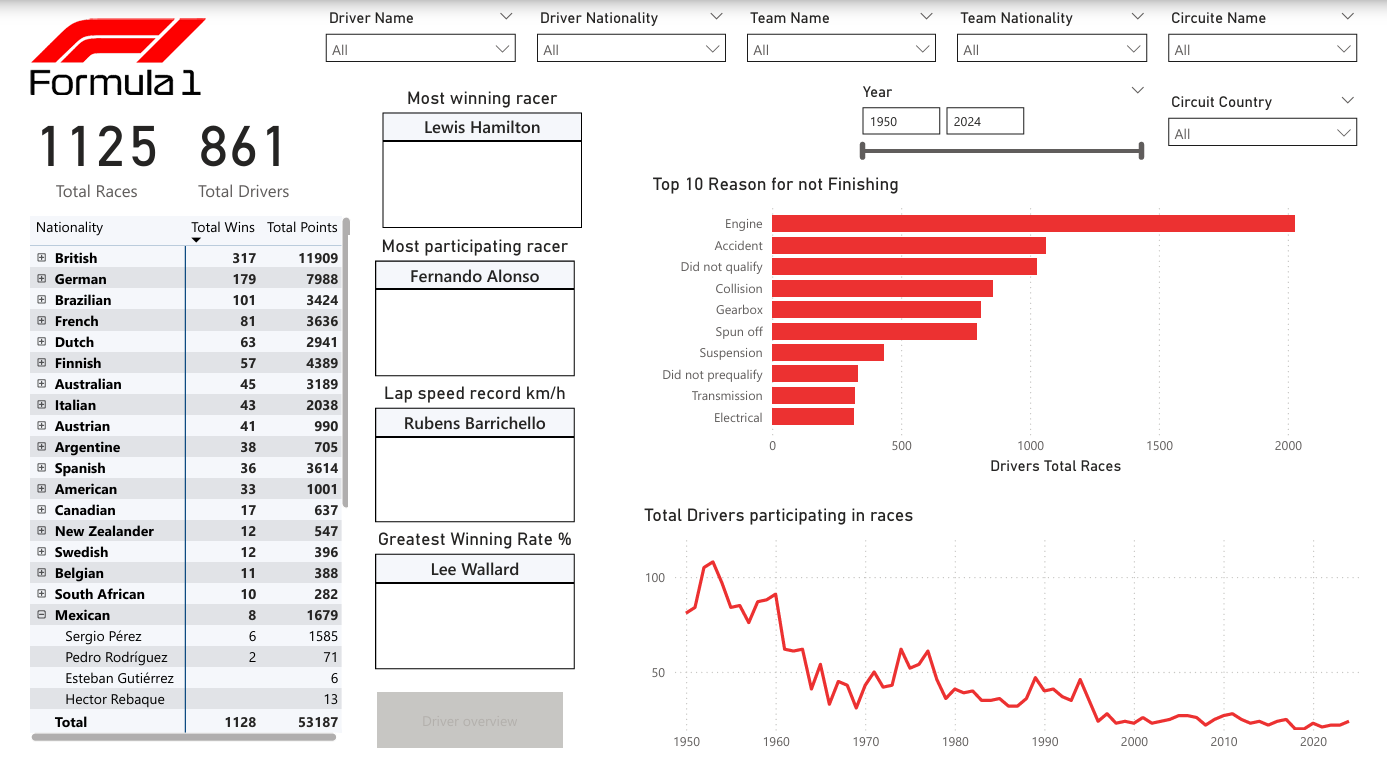

What the dashboard file says about the page in this screenshot:
{"tool":"powerbi","page":{"name":"Drivers","canvas":[1280,720],"ordinal":0},"visuals":[{"type":"card","fields":{"Values":["Dim_Drivers.Total Drivers"]},"box":[140.1,88.5,140.1,100.2],"z":0},{"type":"card","fields":{"Values":["Dim_Races.Total Races"]},"box":[0,88.5,140.1,100.2],"z":1000},{"type":"pivotTable","fields":{"Rows":["Dim_Drivers.Nationality","Dim_Drivers.Full name"],"Values":["Fact_Results.Total Wins","Fact_Results.Total Points"]},"box":[1.9,197.4,315.1,509.7],"z":2000},{"type":"cardVisual","title":"Most winning racer","fields":{"Rows":["Dim_Drivers.Full name"],"Data":["Fact_Results.Total Wins"]},"box":[316.6,79.2,240.2,139.5],"z":3000},{"type":"cardVisual","title":"Most participating racer","fields":{"Rows":["Dim_Drivers.Full name"],"Data":["Dim_Races.Total Races"]},"box":[309.9,220,240.2,139.5],"z":4000},{"type":"cardVisual","title":"Lap speed record km/h","fields":{"Rows":["Dim_Drivers.Full name"],"Data":["Fact_Results.fastestLapSpeed"]},"box":[309.9,359.6,240.2,139.5],"z":5000},{"type":"cardVisual","title":"Greatest Winning Rate %","fields":{"Rows":["Dim_Drivers.Full name"],"Data":["Dim_Circuits.Winning rate"]},"box":[309.9,499.1,240.2,139.5],"z":6000},{"type":"lineChart","title":"Total Drivers participating in races","fields":{"Y":["Dim_Drivers.Total Drivers"],"Category":["Dim_Races.date.Variation.Date Hierarchy.Year"]},"box":[585.5,475.6,694.5,244.1],"z":7000},{"type":"slicer","fields":{"Values":["Dim_Races.name"]},"box":[1079.6,0,200.4,70],"z":8000},{"type":"slicer","fields":{"Values":["Dim_Drivers.Full name"]},"box":[278.2,0,200.4,70],"z":9000},{"type":"slicer","fields":{"Values":["Dim_Drivers.Nationality"]},"box":[478.5,0,200.4,70],"z":10000},{"type":"slicer","fields":{"Values":["Dim_Constructors.name"]},"box":[678.9,0,200.4,70],"z":11000},{"type":"slicer","fields":{"Values":["Dim_Constructors.nationality"]},"box":[879.3,0,200.4,70],"z":12000},{"type":"slicer","fields":{"Values":["Dim_Circuits.country"]},"box":[1079.6,79.8,200.4,70],"z":13000},{"type":"slicer","fields":{"Values":["Dim_Races.date.Variation.Date Hierarchy.Year"]},"box":[785.9,70,293.7,79.8],"z":14000},{"type":"barChart","title":"Top 10 Reason for not Finishing","fields":{"Category":["Dim_Status.status"],"Y":["Dim_Races.Drivers Total Races"]},"box":[594.3,161.3,676.7,291],"z":15000},{"type":"image","box":[1.9,0,177,100.2],"z":16000},{"type":"actionButton","box":[336.8,654.8,175.8,52.3],"z":18000}]}

Visuals, with their boxes in screenshot pixels (x1, y1, x2, y2), scaled from the page's 1280x720 canvas onto the 1387x784 screenshot:
card - Dim_Drivers.Total Drivers: bbox(152, 96, 304, 205)
card - Dim_Races.Total Races: bbox(0, 96, 152, 205)
pivotTable - Dim_Drivers.Nationality x Dim_Drivers.Full name: bbox(2, 215, 343, 770)
"Most winning racer" cardVisual: bbox(343, 86, 603, 238)
"Most participating racer" cardVisual: bbox(336, 240, 596, 391)
"Lap speed record km/h" cardVisual: bbox(336, 392, 596, 543)
"Greatest Winning Rate %" cardVisual: bbox(336, 543, 596, 695)
"Total Drivers participating in races" lineChart: bbox(634, 518, 1386, 783)
slicer - Dim_Races.name: bbox(1170, 0, 1386, 76)
slicer - Dim_Drivers.Full name: bbox(301, 0, 519, 76)
slicer - Dim_Drivers.Nationality: bbox(518, 0, 736, 76)
slicer - Dim_Constructors.name: bbox(736, 0, 953, 76)
slicer - Dim_Constructors.nationality: bbox(953, 0, 1170, 76)
slicer - Dim_Circuits.country: bbox(1170, 87, 1386, 163)
slicer - Dim_Races.date.Variation.Date Hierarchy.Year: bbox(852, 76, 1170, 163)
"Top 10 Reason for not Finishing" barChart: bbox(644, 176, 1377, 493)
image: bbox(2, 0, 194, 109)
actionButton: bbox(365, 713, 555, 770)
